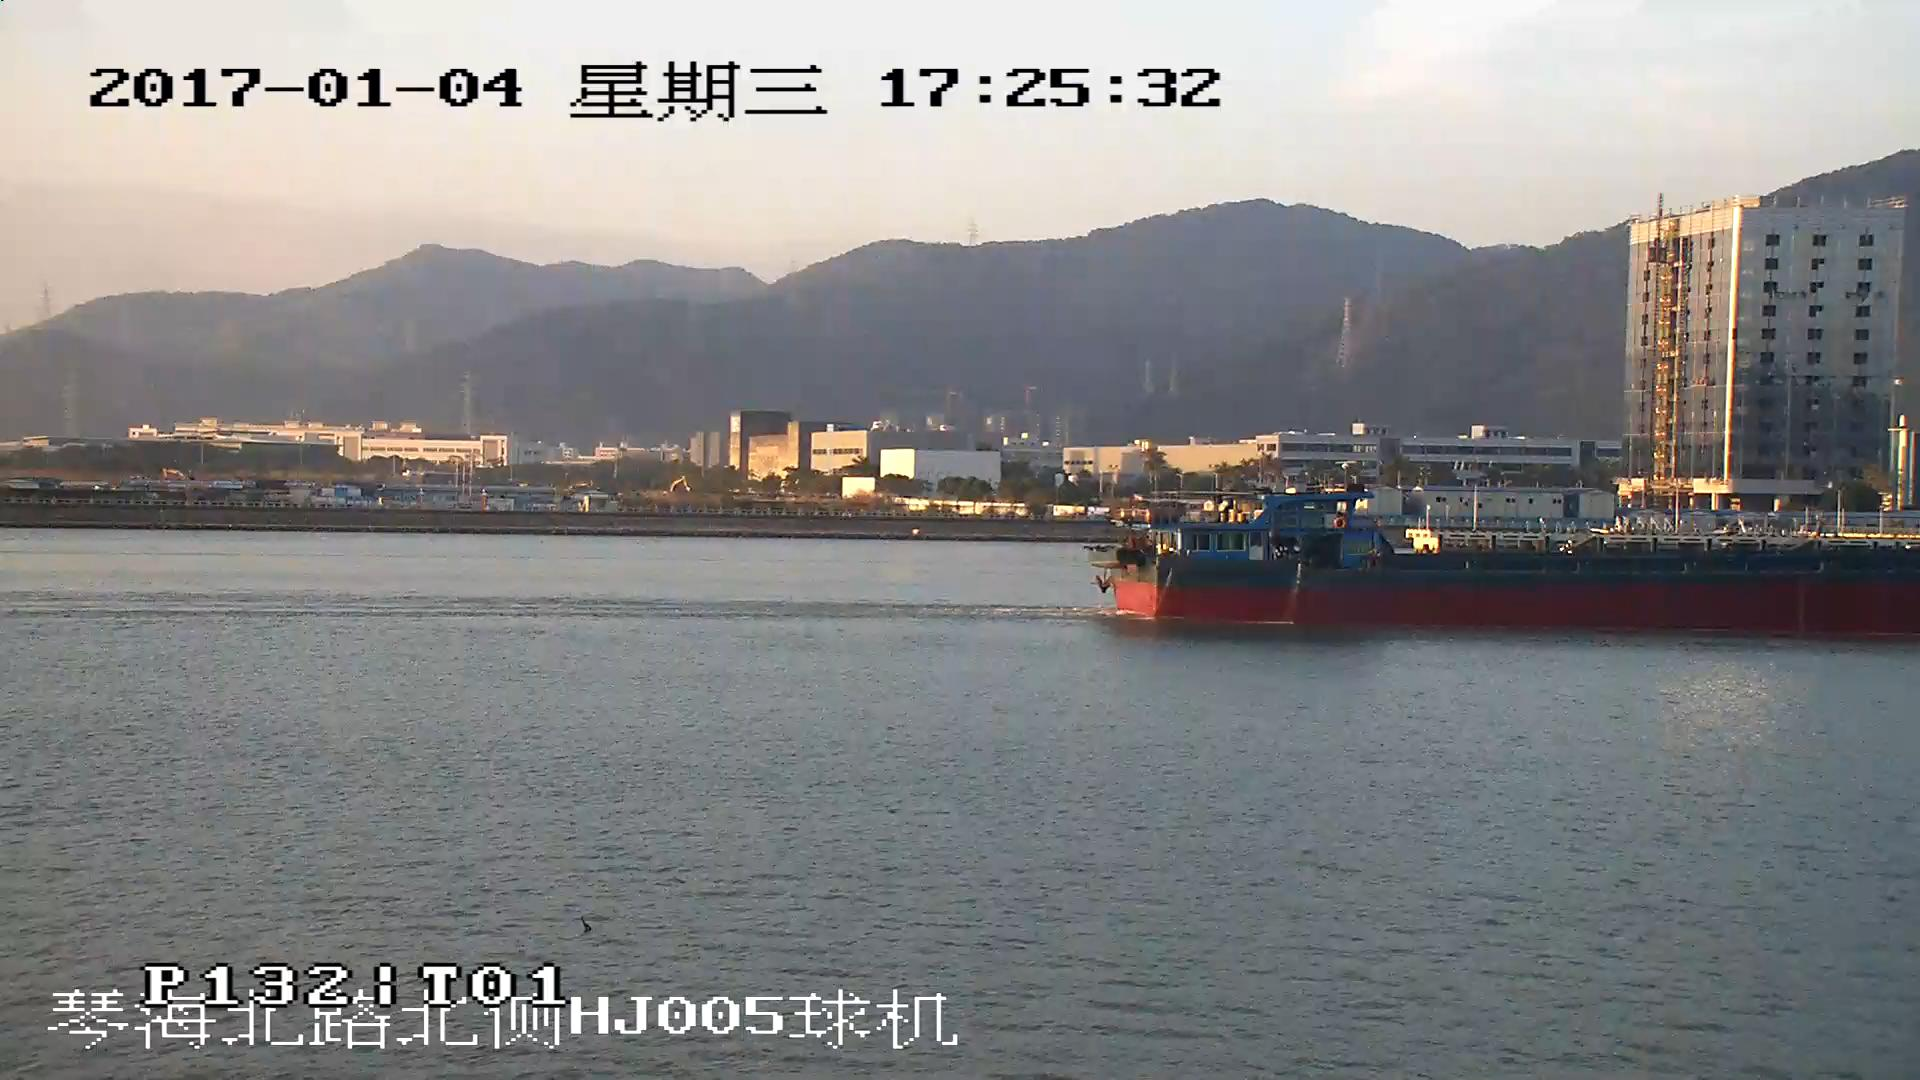general cargo ship: (1090, 492, 1920, 641)
